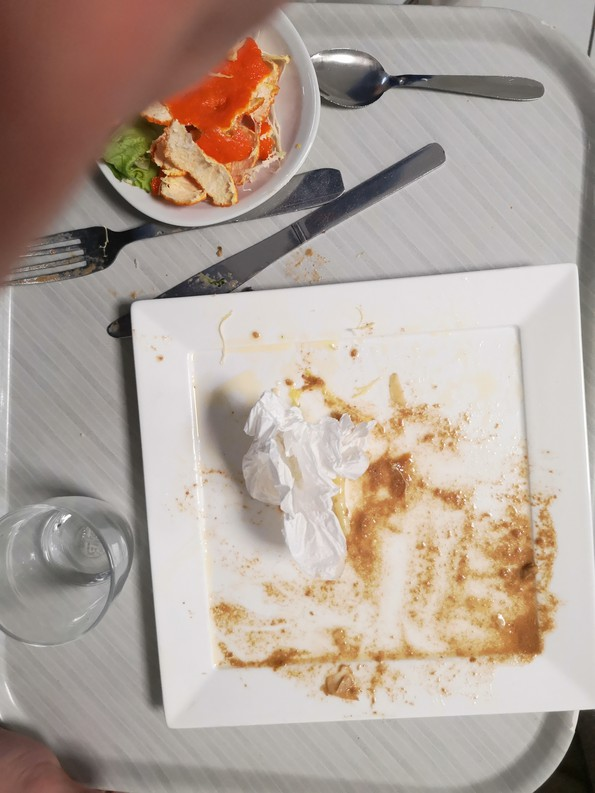cup: (1, 492, 133, 666)
cutlery: (104, 127, 461, 341), (296, 31, 552, 118), (2, 209, 125, 300)
orga: (135, 70, 274, 188)
trash: (234, 393, 393, 607)
